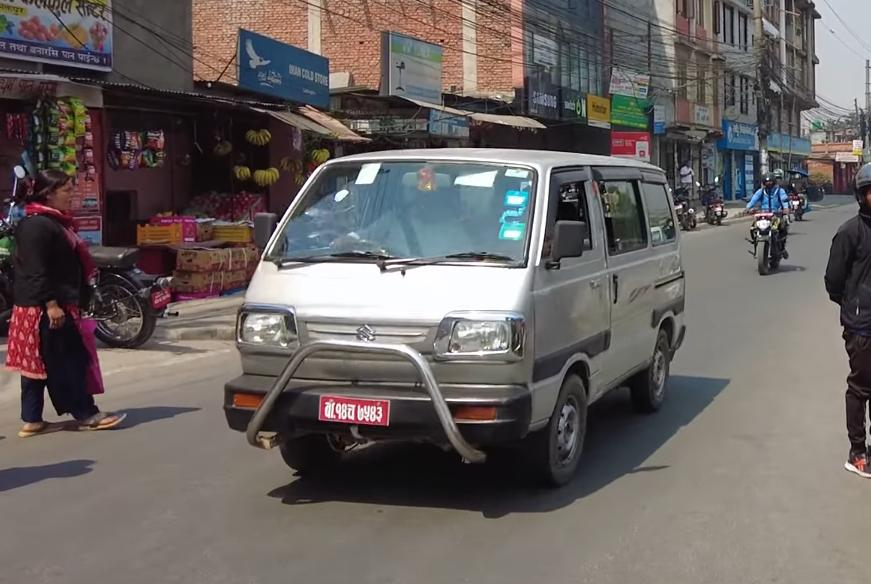bike: (745, 204, 798, 279)
van: (220, 132, 707, 507)
